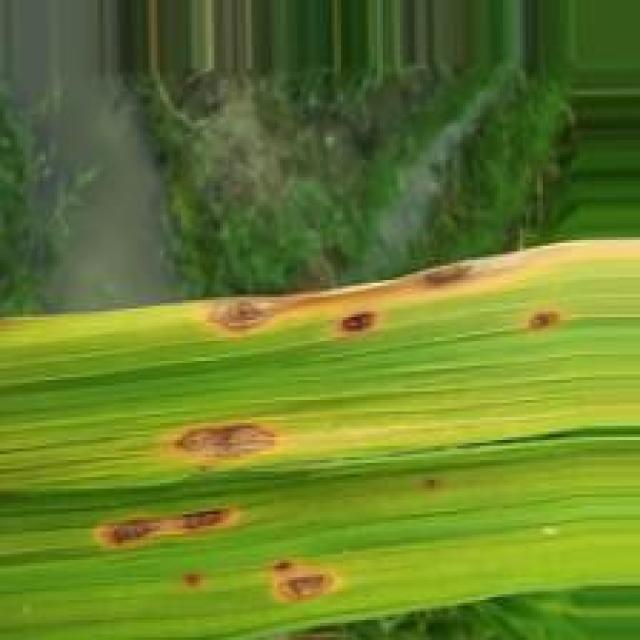Brown_Spot: (198, 256, 510, 342), (94, 505, 250, 558), (161, 421, 284, 472), (266, 556, 347, 609), (523, 309, 570, 332), (418, 471, 448, 493), (182, 568, 204, 586)
